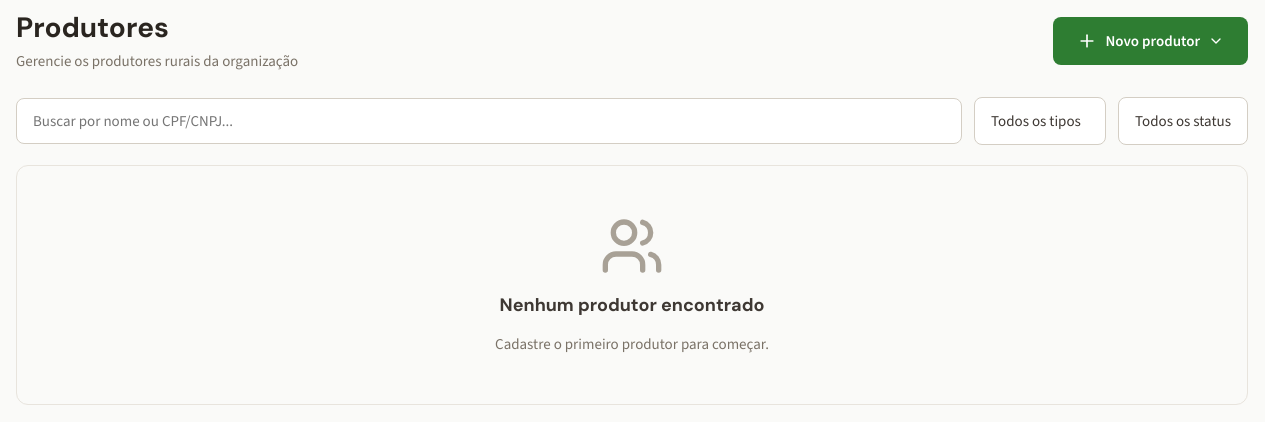
it: ProducersPage › should show empty state with filter message when filters active
Note: Activate a filter first
Select "Pessoa Física" in the 1st dropdown named "Filtrar por tipo": (1040, 121) [974,97,1106,145]
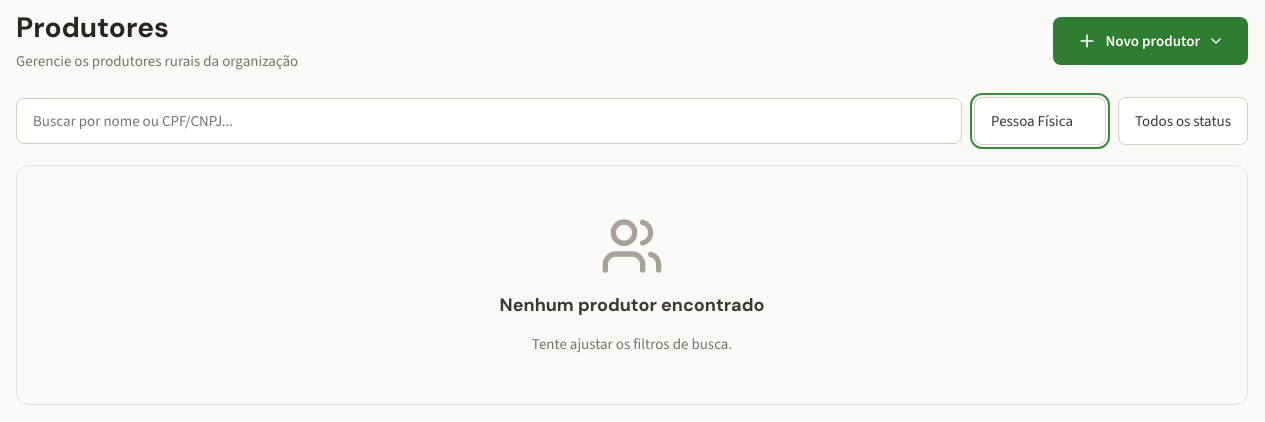
expect the text "Tente ajustar os filtros de busca." is shown: met, box [532,333,732,356]
